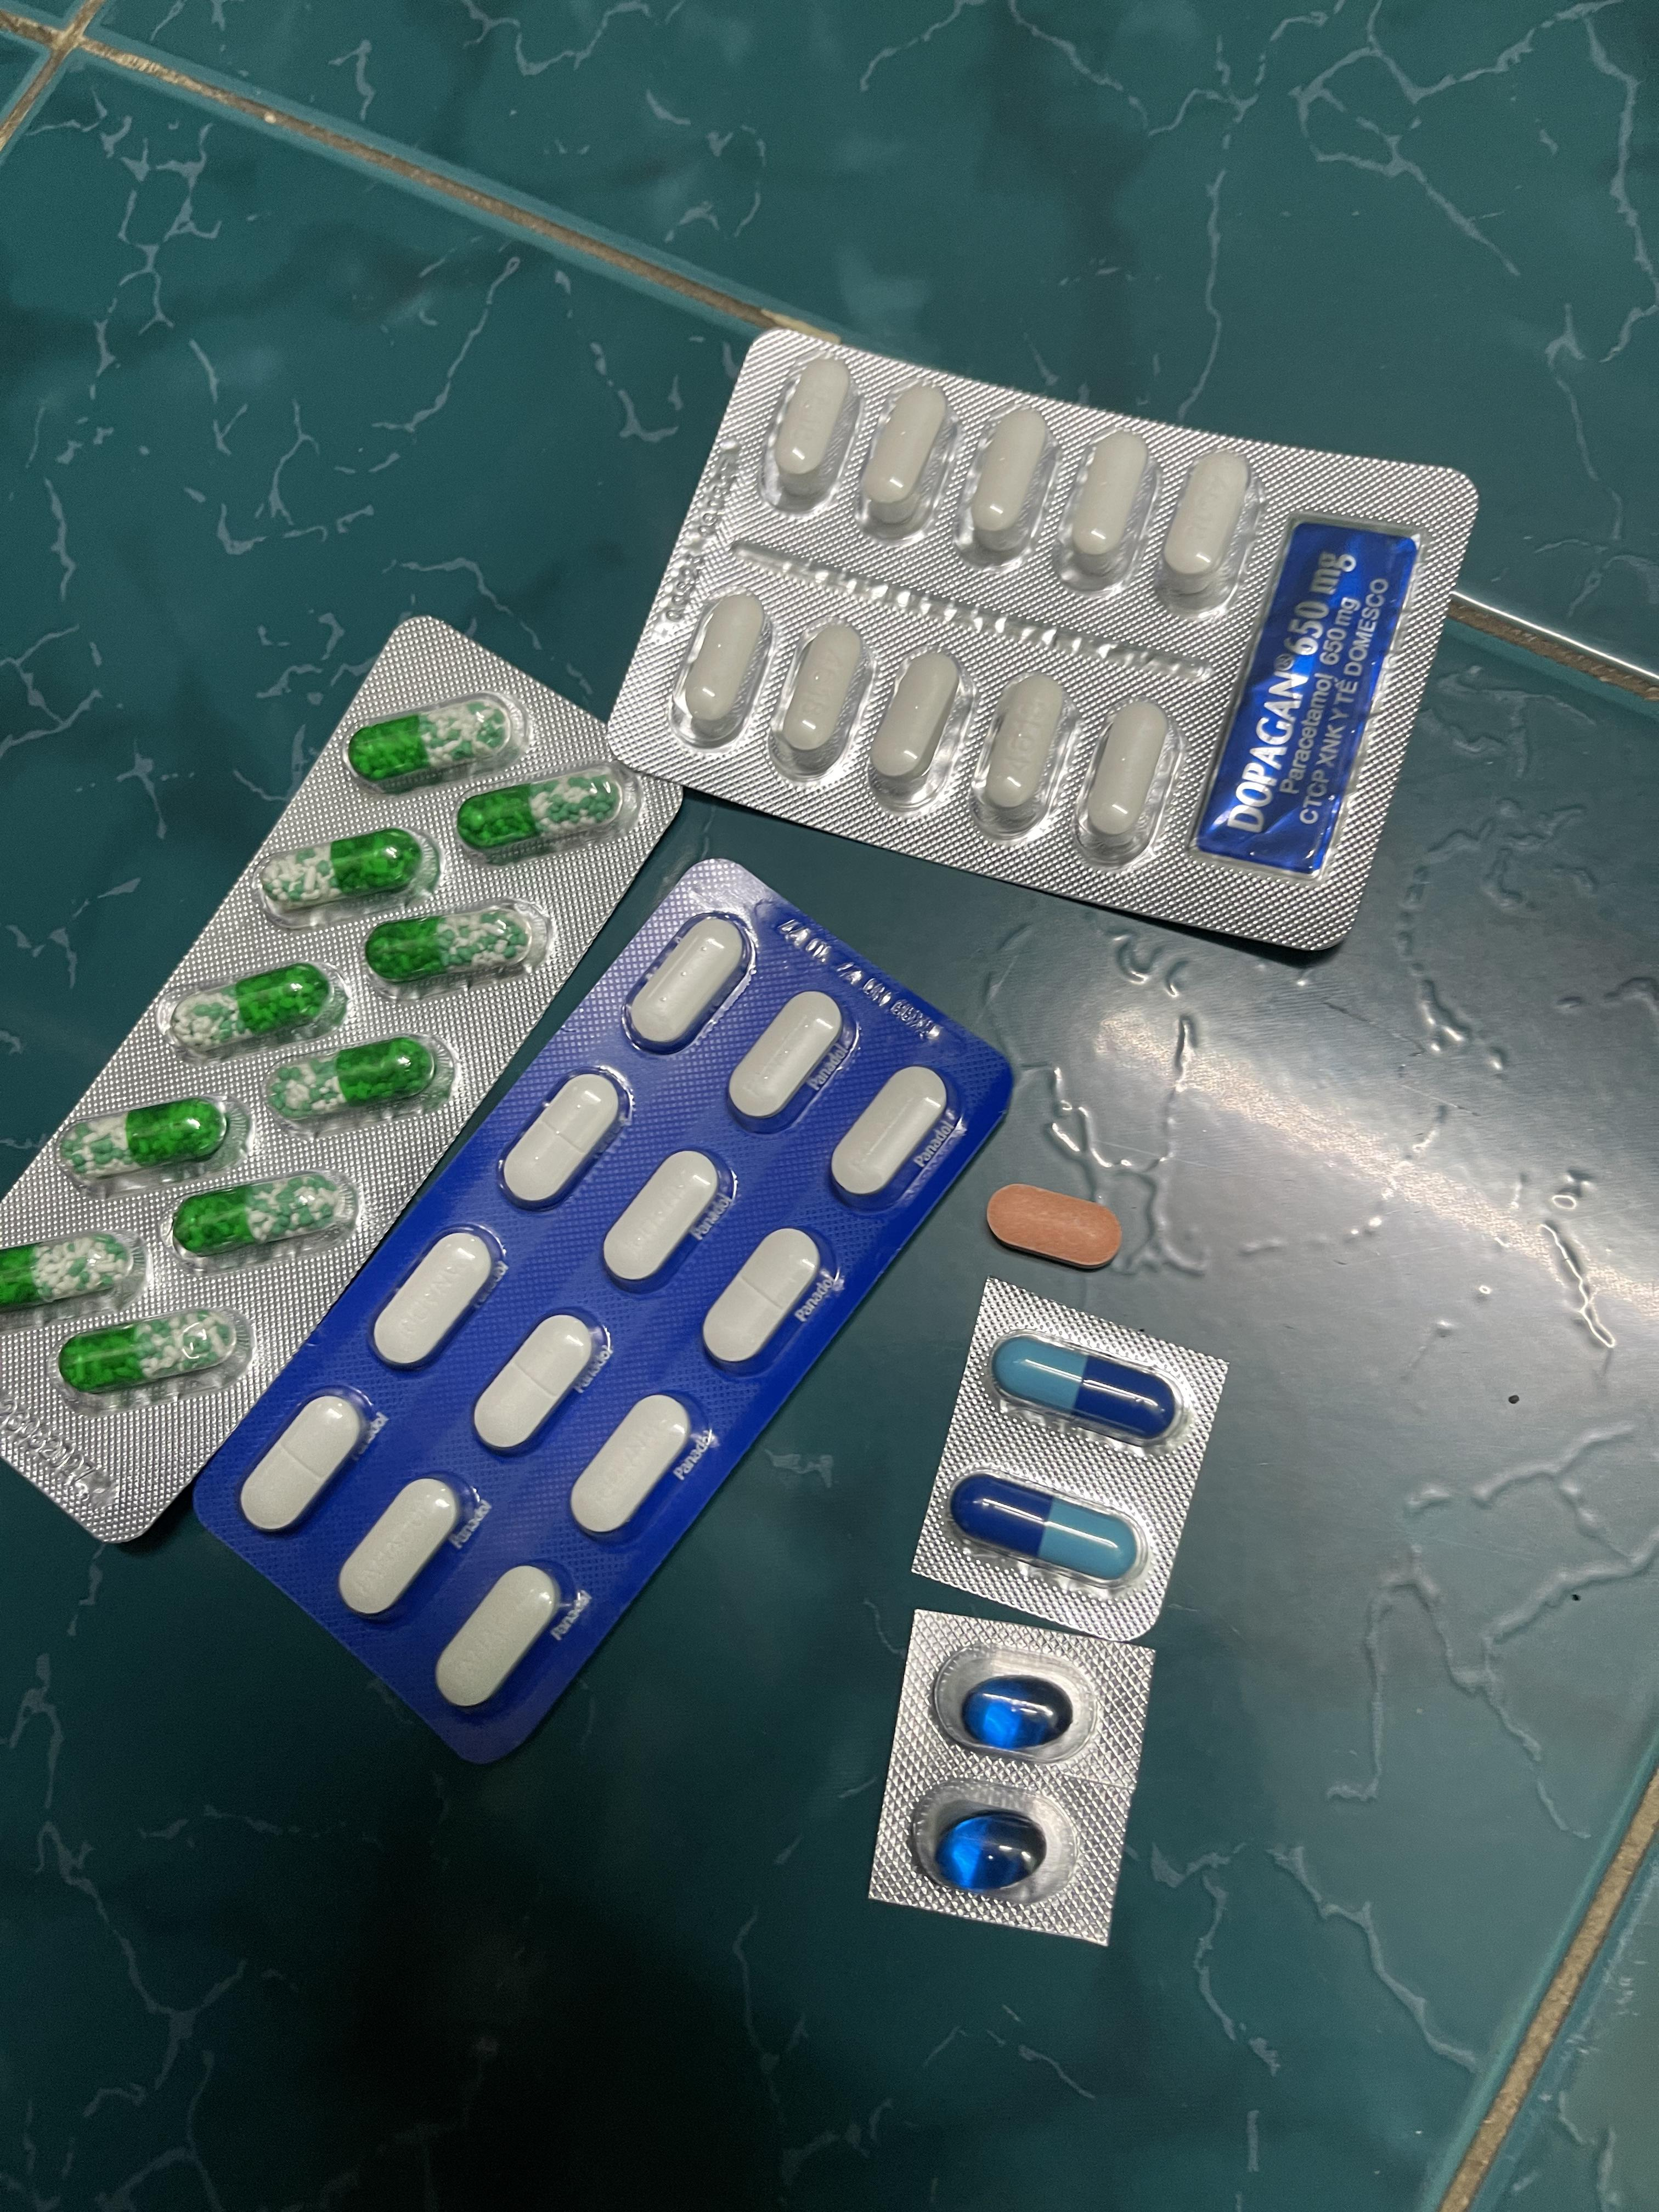Lincomyxin_500mg: (939, 1813, 1044, 1892), (962, 1677, 1070, 1747)
Loratadine_10mg: (985, 1181, 1121, 1270)
Paracetamol_350mg: (369, 1228, 500, 1372), (237, 1392, 368, 1534), (570, 1393, 699, 1538), (500, 1069, 631, 1211), (437, 1566, 568, 1707), (474, 1313, 603, 1454), (336, 1477, 465, 1618), (601, 1150, 728, 1291), (830, 1062, 953, 1207), (702, 1230, 826, 1372), (725, 986, 847, 1125), (627, 916, 748, 1049)
Paracetamol_500mg: (775, 618, 871, 773), (857, 380, 953, 533), (873, 650, 969, 799), (1159, 448, 1248, 594), (1084, 702, 1173, 843), (981, 672, 1068, 812), (1066, 428, 1152, 570), (969, 406, 1054, 547), (683, 594, 769, 726), (774, 354, 856, 486)
Paracetamol_650mg: (268, 1038, 453, 1125), (173, 1170, 356, 1258), (59, 1310, 242, 1395), (167, 963, 342, 1052), (260, 824, 439, 909), (54, 1101, 225, 1177), (349, 707, 507, 787), (362, 909, 528, 979), (460, 773, 617, 846), (0, 1230, 134, 1312)
pill: (955, 1474, 1143, 1585), (992, 1339, 1178, 1442)
